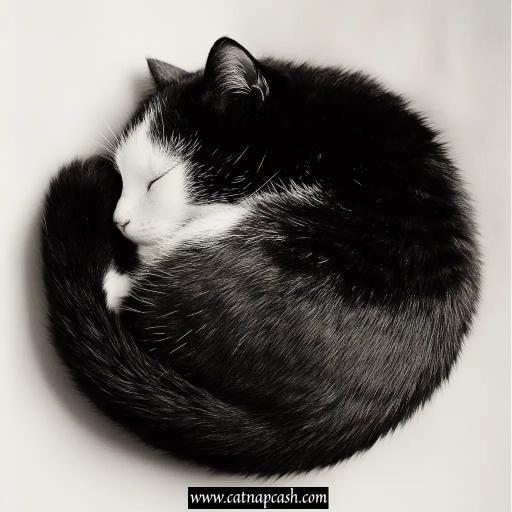cat_sleeping: (29, 37, 487, 480)
